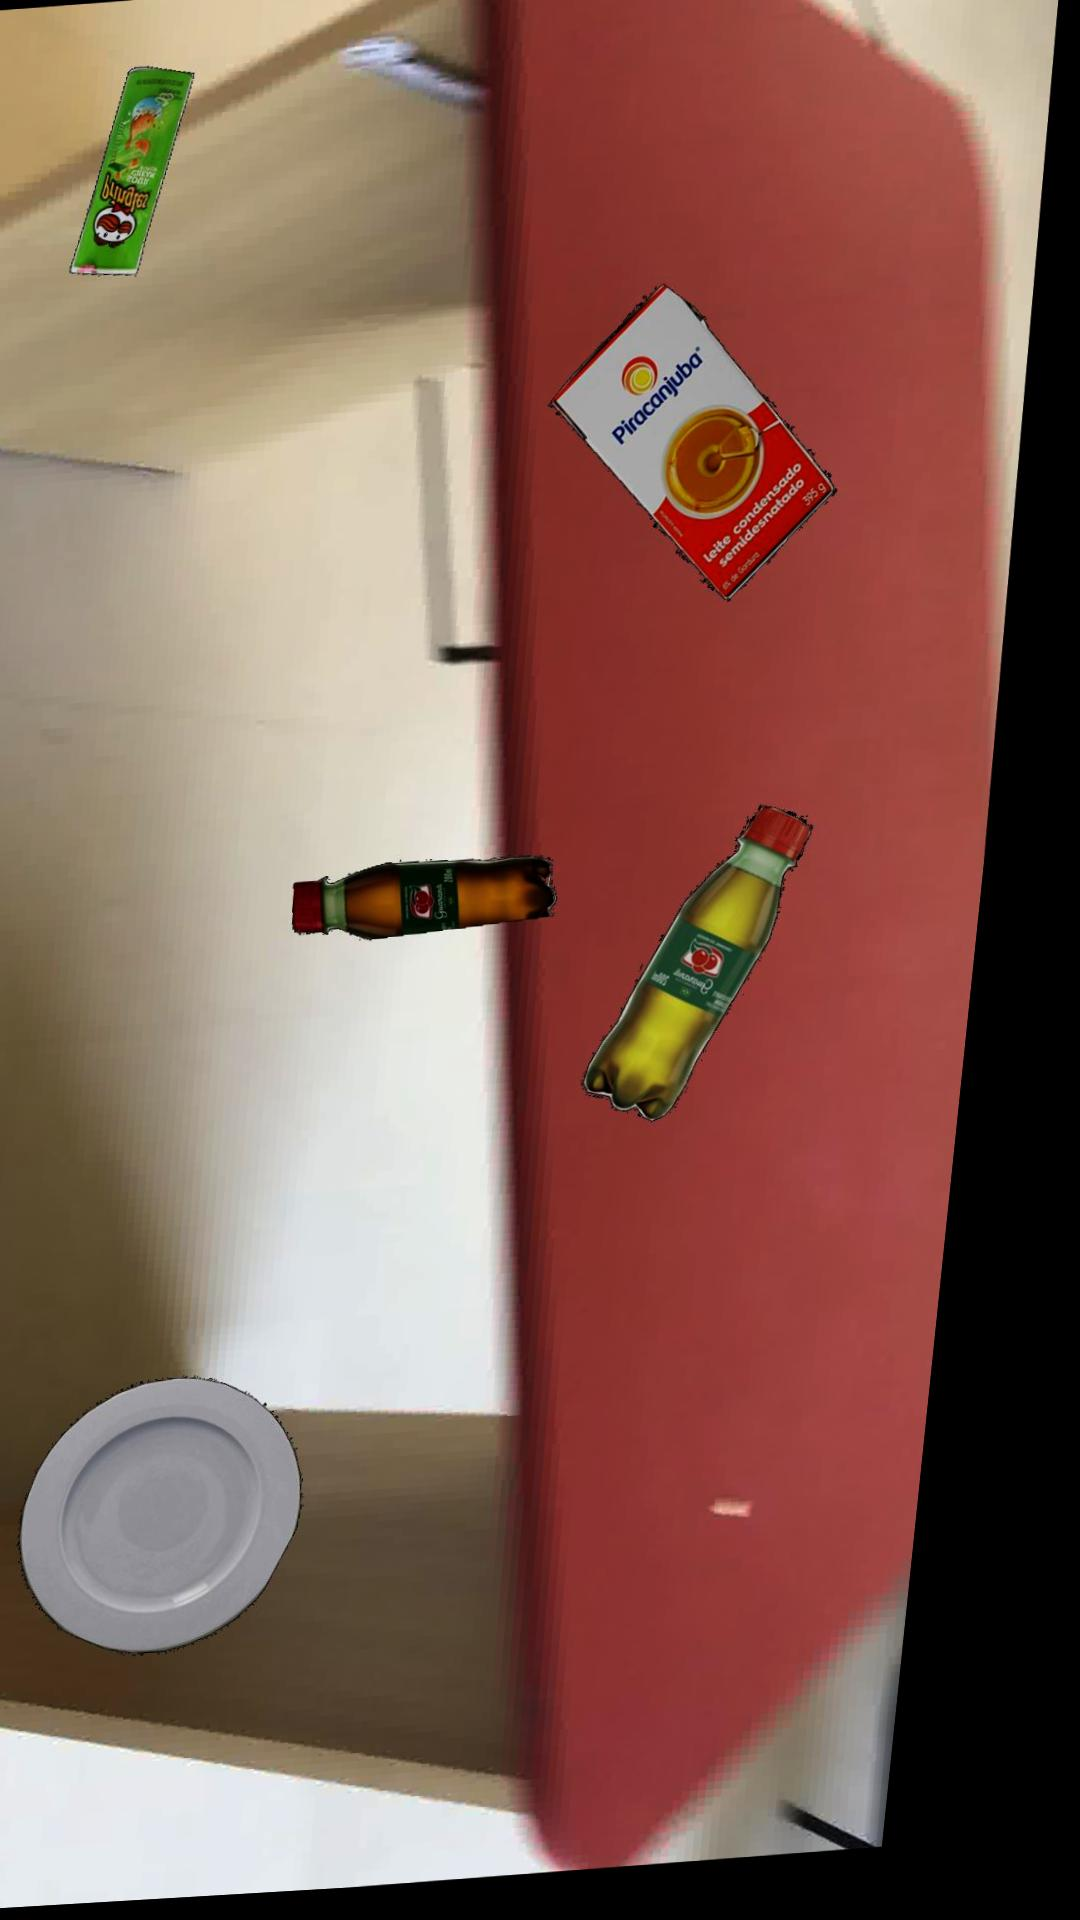guarana: (605, 814, 829, 1130), (310, 861, 575, 944)
plate: (47, 1378, 334, 1655)
pringles: (73, 66, 194, 274)
